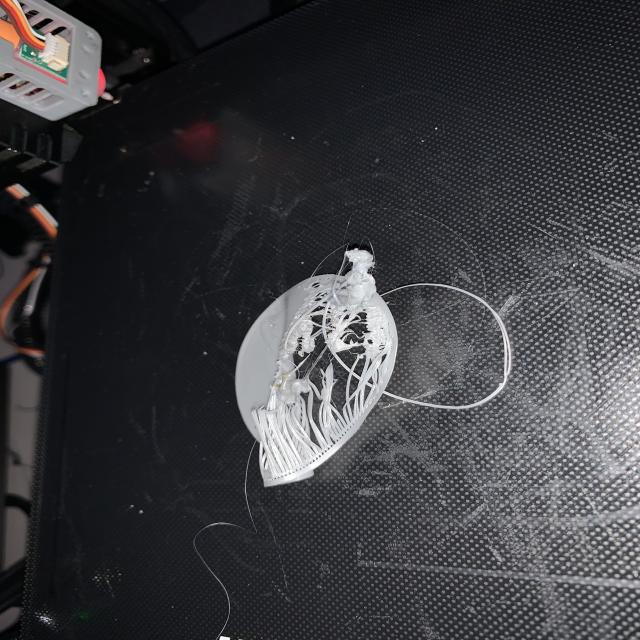spaghetti: (226, 249, 527, 464)
